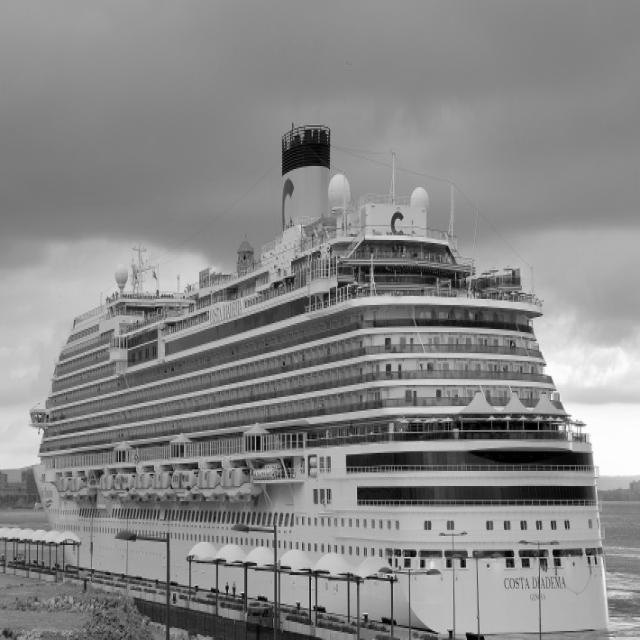cruises: (29, 112, 615, 640)
